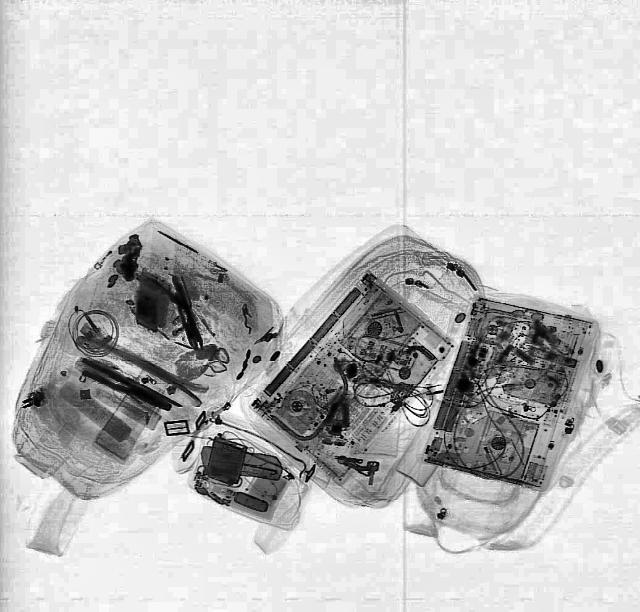Pliers: (73, 356, 175, 418)
